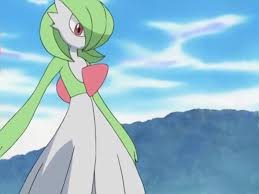gardevoir: (1, 2, 140, 194)
